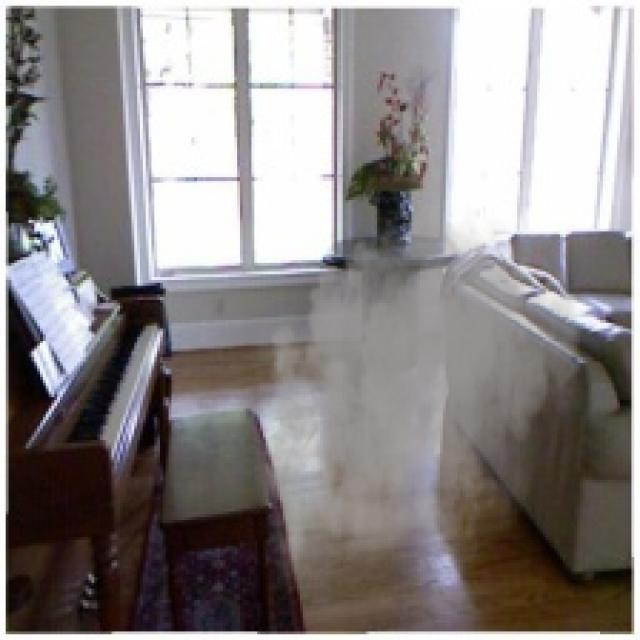smoke: (246, 192, 591, 597)
